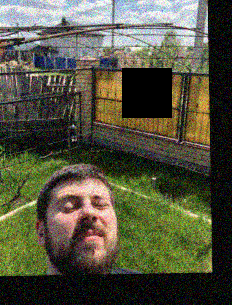without_mask: (51, 186, 117, 274)
